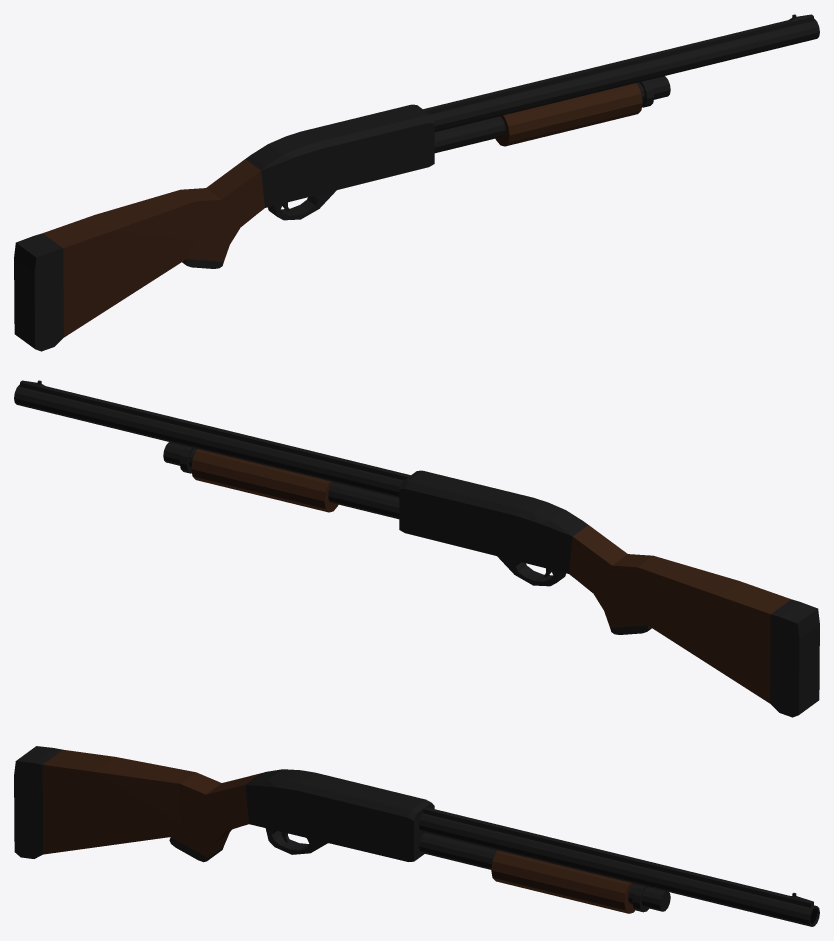
The model's file is ShotGun.fbx.
3 views of the same model, one above another, from view 1: azimuth 30°, elevation 25°; view 2: azimuth 150°, elevation 25°; view 3: azimuth 330°, elevation 25° (orthographic).
Visible parts, largest first — view 1: ShotGun, ForeEnd; view 2: ShotGun, ForeEnd; view 3: ShotGun, ForeEnd.
Boxes of the visible parts, x1,y1,x2,y2 form: ShotGun: (14, 14, 819, 351); ForeEnd: (495, 83, 642, 146); ShotGun: (14, 380, 819, 717); ForeEnd: (191, 449, 338, 512); ShotGun: (14, 746, 819, 926); ForeEnd: (491, 850, 635, 913).
Size of the model in its own units: 2764 by 477 by 125.
